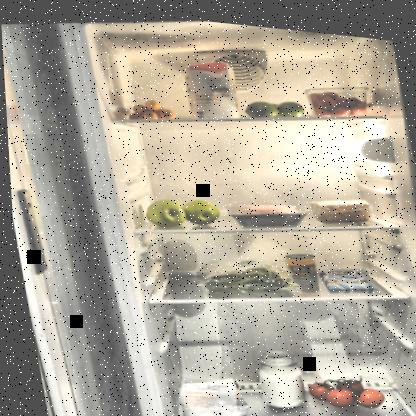apple: (139, 184, 224, 231)
carrot: (121, 90, 177, 122)
chocolate: (314, 257, 372, 288)
corn: (280, 243, 317, 275)
green_beans: (197, 245, 299, 299)
ground_beef: (223, 190, 309, 229)
lime: (240, 86, 306, 119)
strawberries: (302, 74, 369, 113)
tomato: (300, 357, 384, 412)
